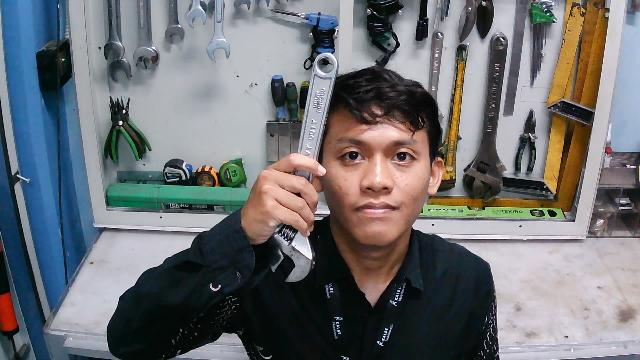kunci_inggris: (265, 45, 337, 291)
